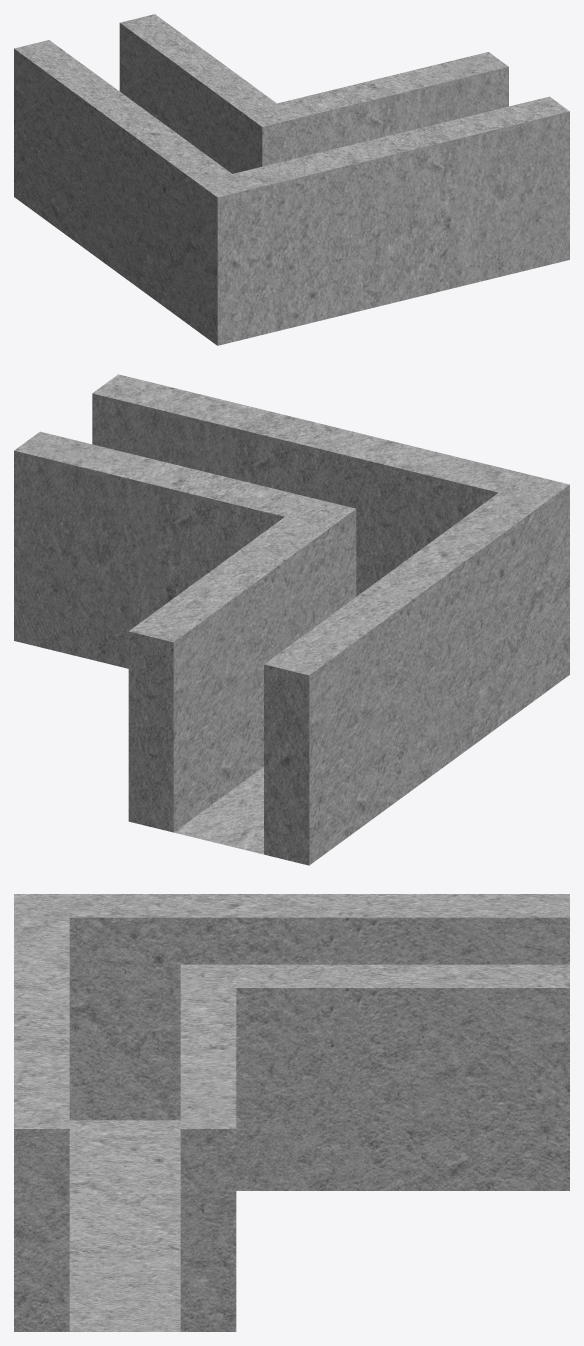
Rendered from 1x1cornerTextured.fbx.
3 renders of one model, top to bottom at view 1: azimuth 30°, elevation 25°; view 2: azimuth 150°, elevation 25°; view 3: azimuth 270°, elevation 25°, orthographic. The views are drawn at different scales.
Visible parts, largest first — view 1: Plane.001; view 2: Plane.001; view 3: Plane.001.
Part boxes in pixels (x1,y1,x2,y2): Plane.001: (14, 14, 569, 345); Plane.001: (14, 374, 569, 865); Plane.001: (14, 894, 569, 1331).
Size of the model in its own units: 31.25 by 12.57 by 31.25.
1 material, 1 textured.
